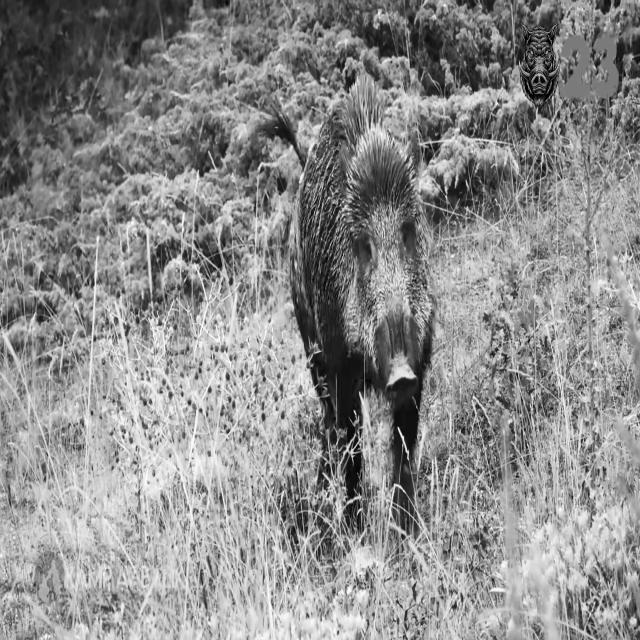boar: (289, 78, 434, 534)
